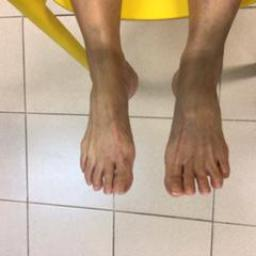Dorsal View -Both Feet-: (68, 20, 244, 200)
